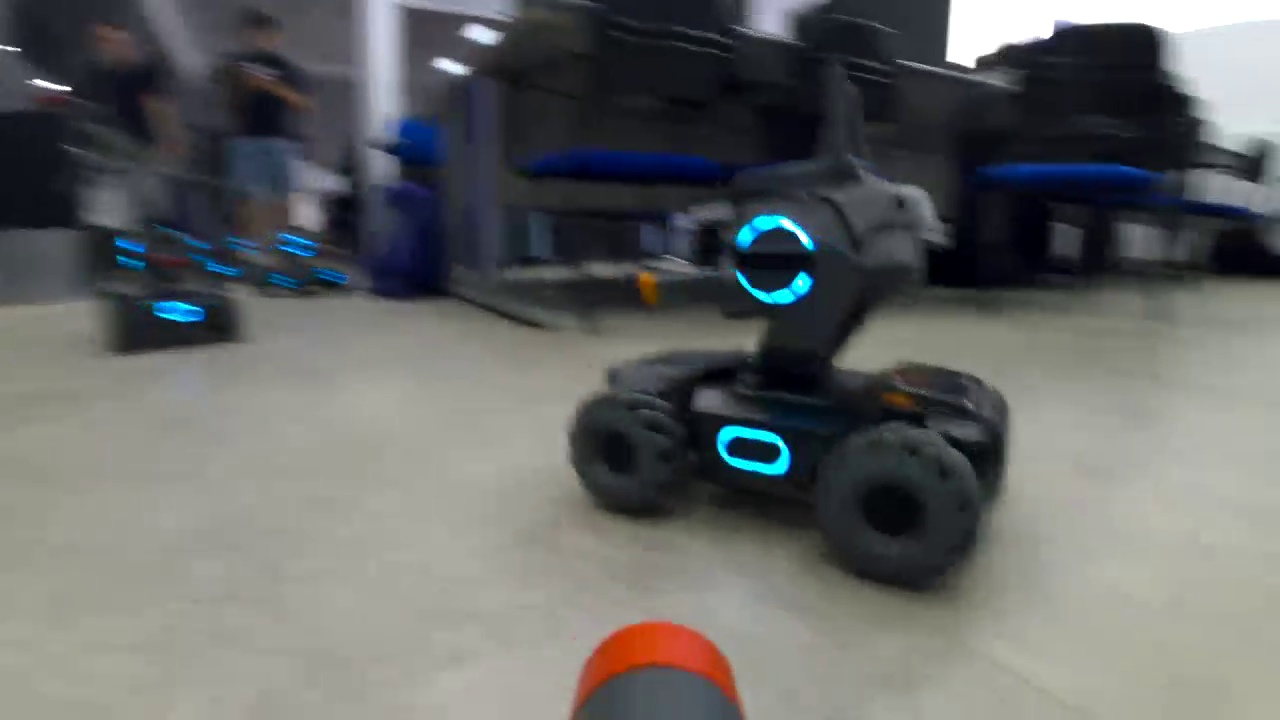robot: (558, 142, 1016, 593), (93, 222, 257, 364), (259, 223, 367, 310), (195, 226, 260, 293)
